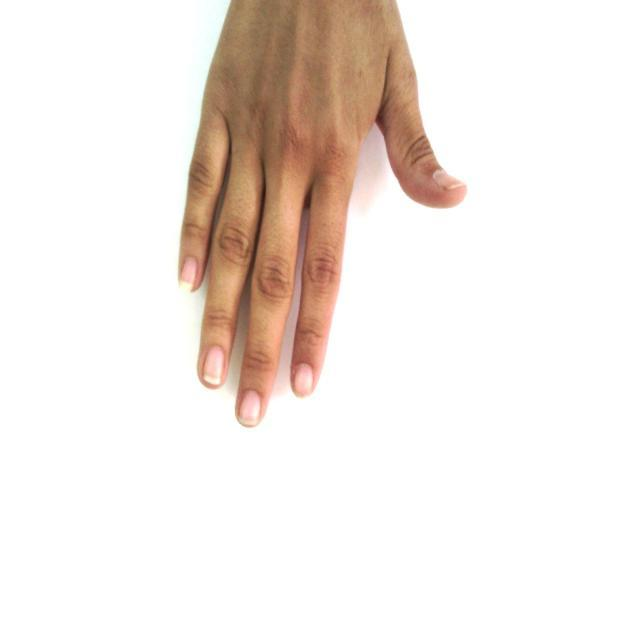Fingernail: (204, 346, 224, 385), (239, 391, 260, 426), (294, 364, 313, 397), (180, 257, 199, 290), (435, 170, 463, 190)
